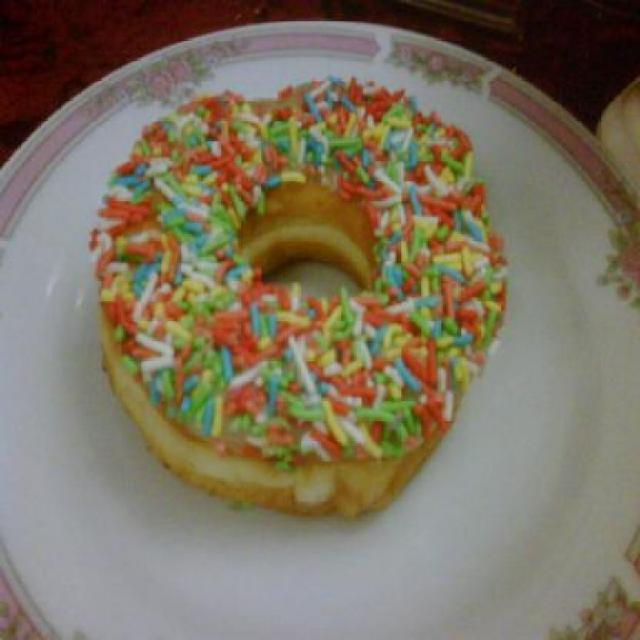Donuts: (102, 89, 516, 548)
